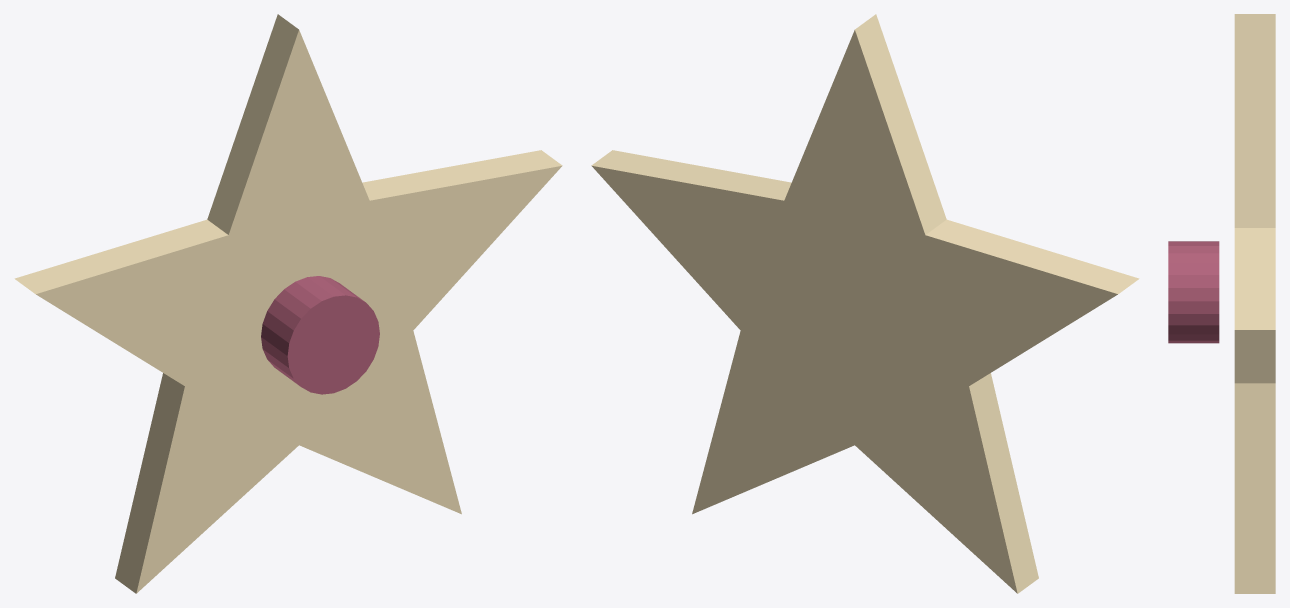
Rendered from ACC_Star_Brooch.glb.
3 views of the same model, side by side, from view 1: azimuth 30°, elevation 25°; view 2: azimuth 150°, elevation 25°; view 3: azimuth 270°, elevation 25° (orthographic). The views are drawn at different scales.
Visible parts, largest first — view 1: ACC_Star_Brooch_1, ACC_Star_Brooch_2; view 2: ACC_Star_Brooch_1; view 3: ACC_Star_Brooch_1, ACC_Star_Brooch_2.
Boxes of the visible parts, x1,y1,x2,y2 form: ACC_Star_Brooch_1: (14,14,562,593); ACC_Star_Brooch_2: (261,276,379,394); ACC_Star_Brooch_1: (591,14,1139,593); ACC_Star_Brooch_1: (1234,14,1275,593); ACC_Star_Brooch_2: (1168,241,1219,343).
Bounding box in the file's own units: 0.0571 × 0.0543 × 0.0105.
